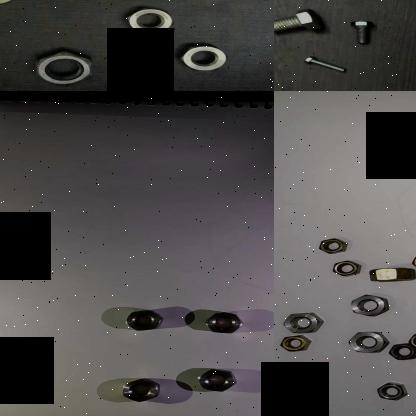Bolts: (274, 6, 323, 36), (301, 54, 351, 74), (349, 18, 379, 44)
NUTS: (30, 43, 94, 88), (173, 38, 231, 76), (123, 5, 176, 36), (346, 327, 390, 353), (121, 376, 162, 403), (348, 292, 392, 316), (123, 308, 166, 332), (206, 310, 248, 334), (282, 310, 324, 334), (364, 265, 416, 284), (198, 368, 239, 392), (278, 332, 312, 352), (385, 340, 416, 361), (376, 380, 408, 400), (331, 258, 362, 278), (318, 236, 350, 254), (403, 330, 416, 350), (410, 250, 416, 268)
